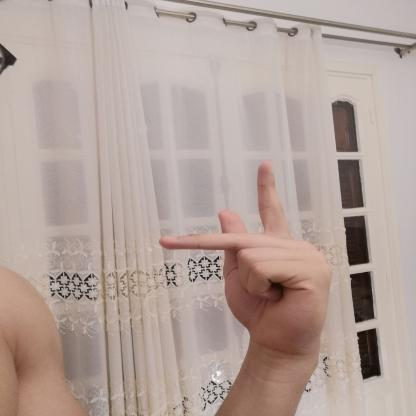DHAA: (147, 152, 343, 366)
